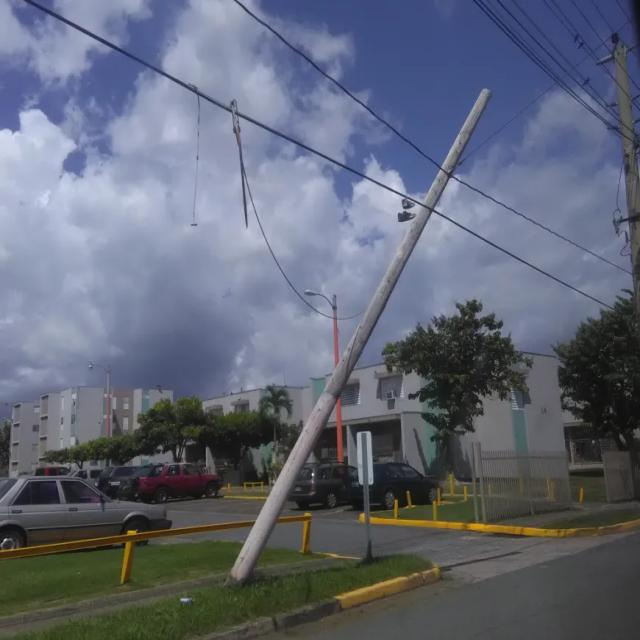Inclined Pole: (226, 87, 492, 578)
